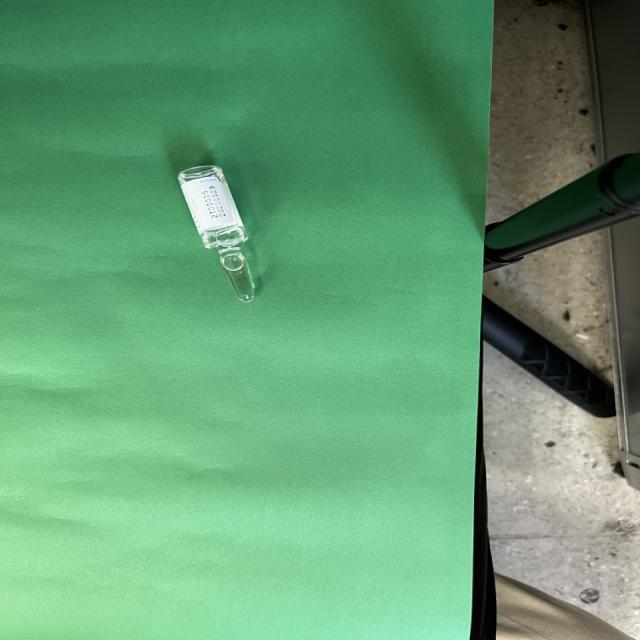Ampoules: (177, 164, 255, 302)
